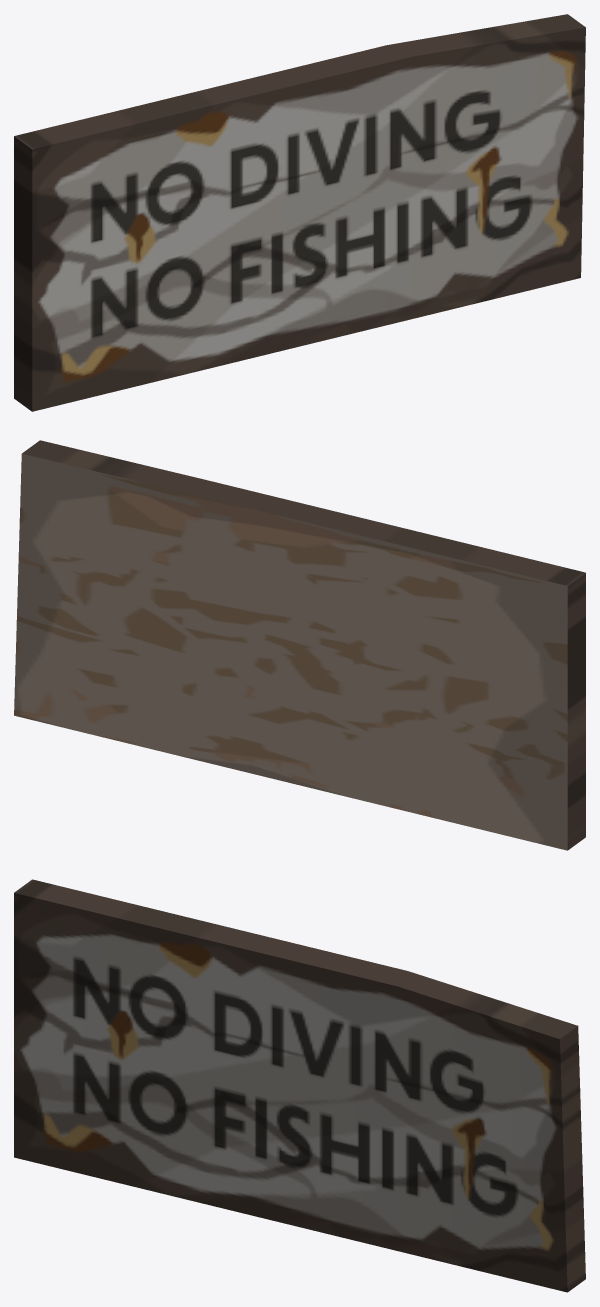
The model's file is SM_Prop_Sign_Custom_10.fbx.
The picture shows the model from 3 angles, top to bottom: view 1: azimuth 30°, elevation 25°; view 2: azimuth 150°, elevation 25°; view 3: azimuth 330°, elevation 25°; orthographic projection.
Visible parts, largest first — view 1: SM_Prop_Sign_Custom_10; view 2: SM_Prop_Sign_Custom_10; view 3: SM_Prop_Sign_Custom_10.
Boxes of the visible parts, box(x1,y1,x2,y2) form: SM_Prop_Sign_Custom_10: box(14, 14, 585, 411); SM_Prop_Sign_Custom_10: box(14, 440, 585, 850); SM_Prop_Sign_Custom_10: box(14, 879, 585, 1292).
Bounding box in the file's own units: 110 × 50.1 × 8.47.
